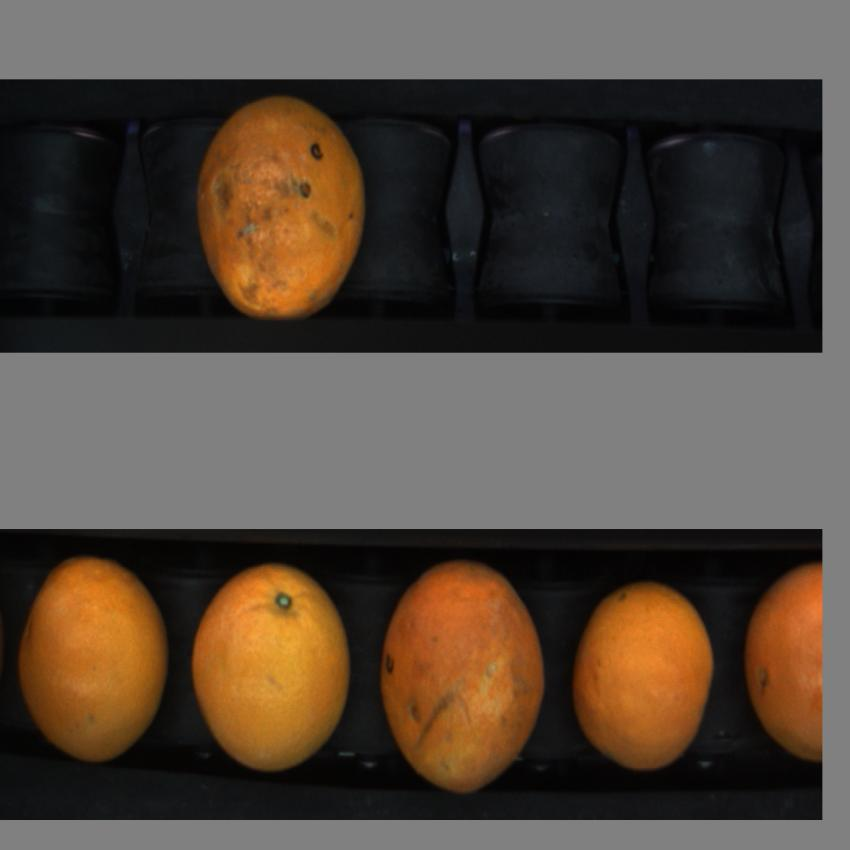Buen estado: (184, 550, 355, 786), (16, 552, 171, 781), (571, 563, 715, 776), (742, 553, 822, 773)
Mal estado: (192, 89, 372, 330), (381, 549, 548, 799)
